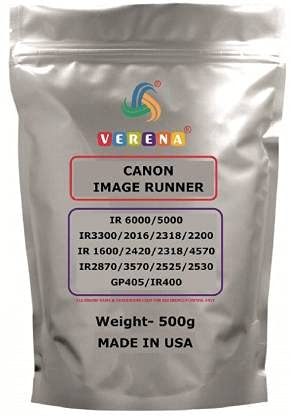VERENA: (101, 134, 182, 144)
